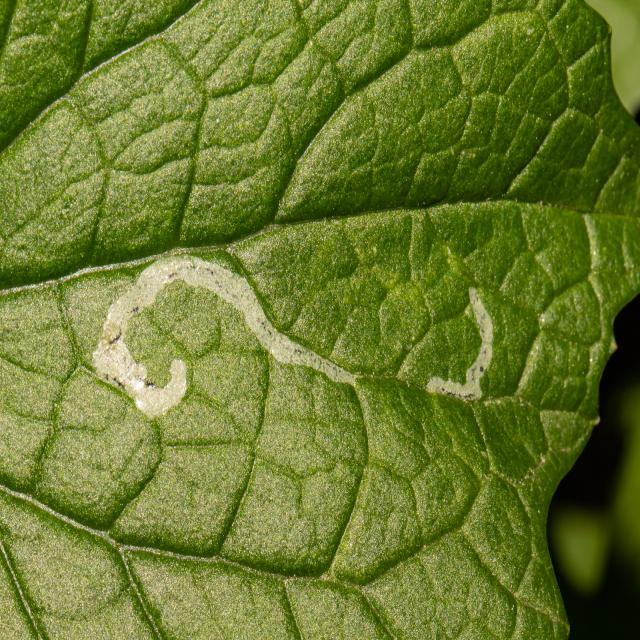Serpentine leafminer: (75, 248, 377, 428), (424, 278, 497, 410)
